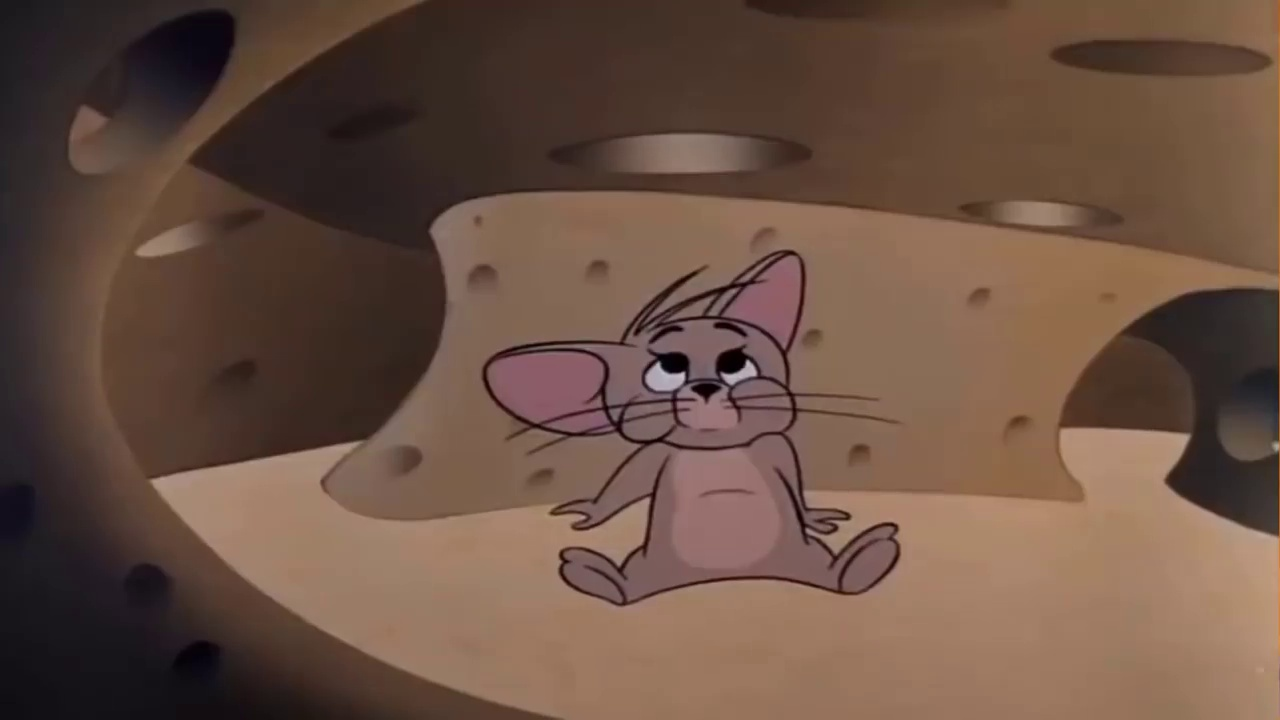face: (636, 323, 777, 440)
